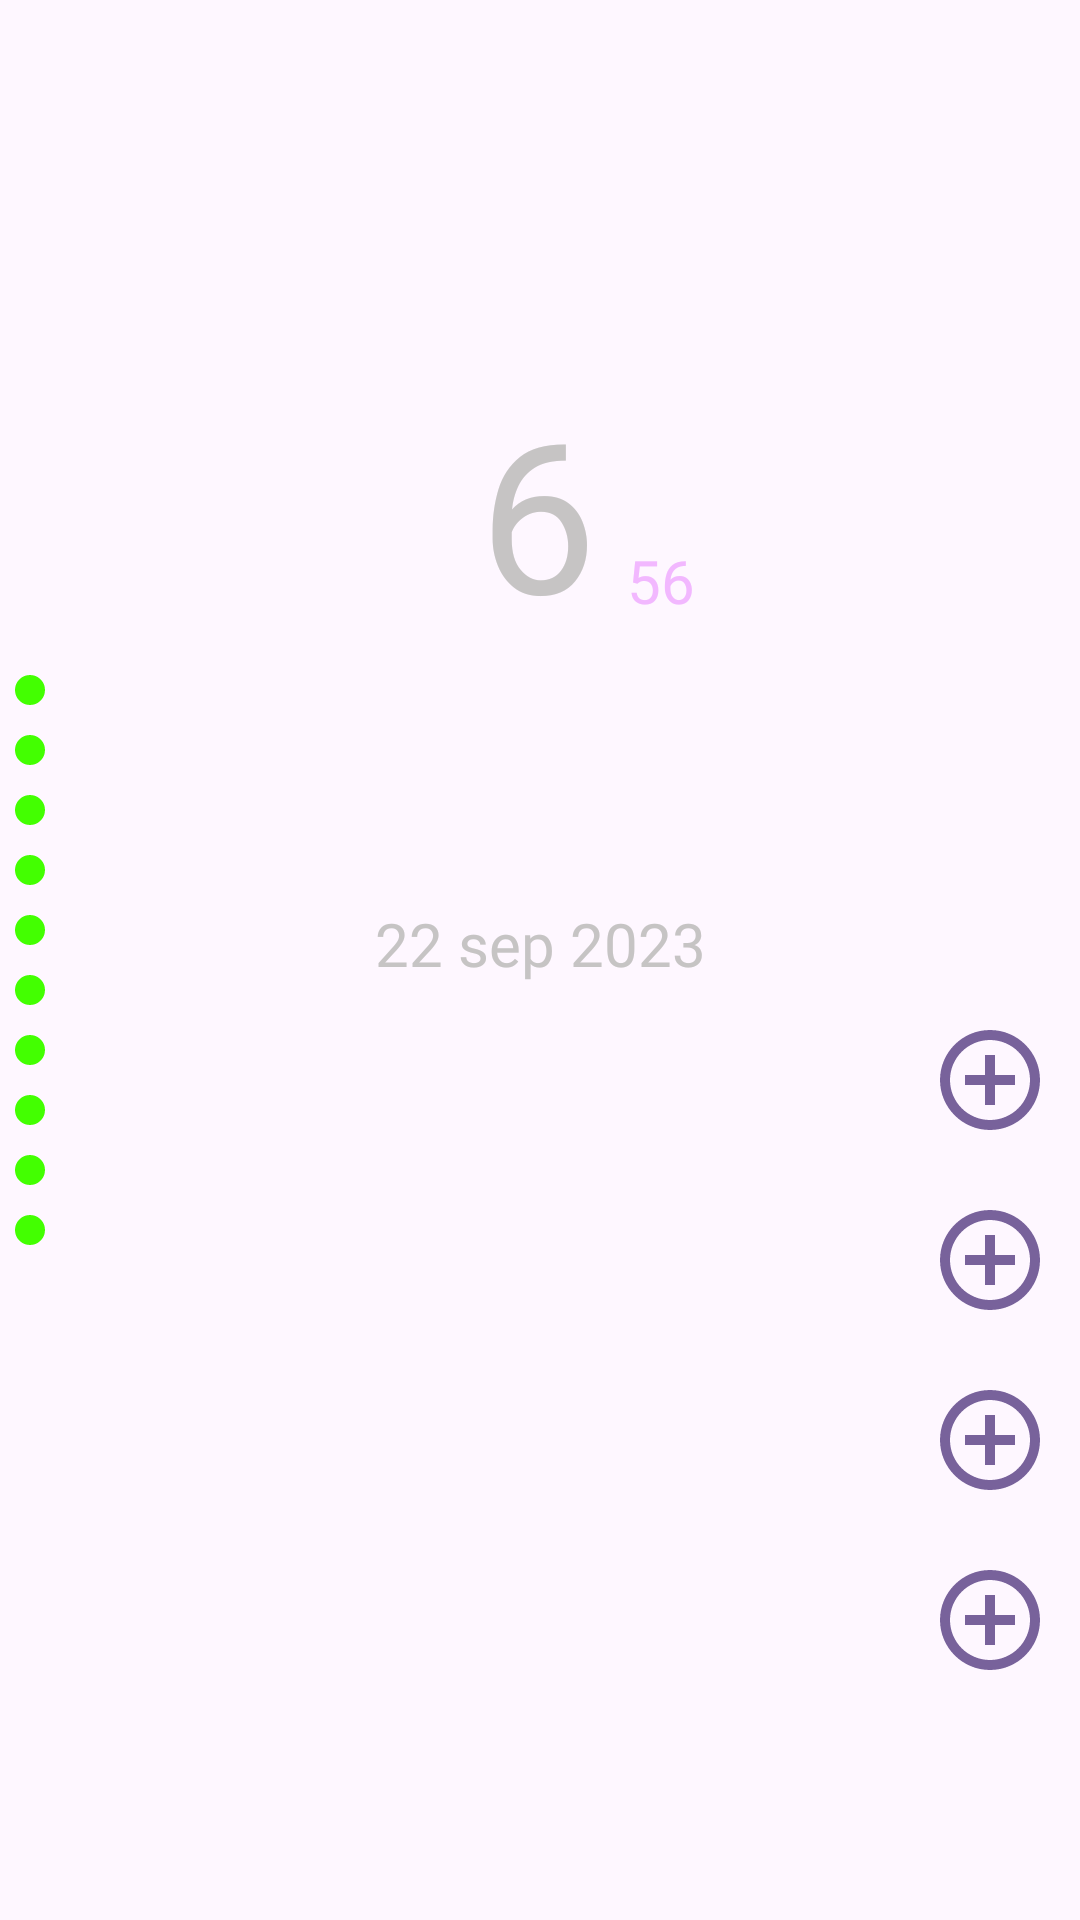

Where icons sit on this 1080 × 1920 app screen, as (x1, y1, x2, y2):
add: (940, 1030, 1040, 1130), (940, 1210, 1040, 1310), (940, 1390, 1040, 1490), (940, 1570, 1040, 1670)
